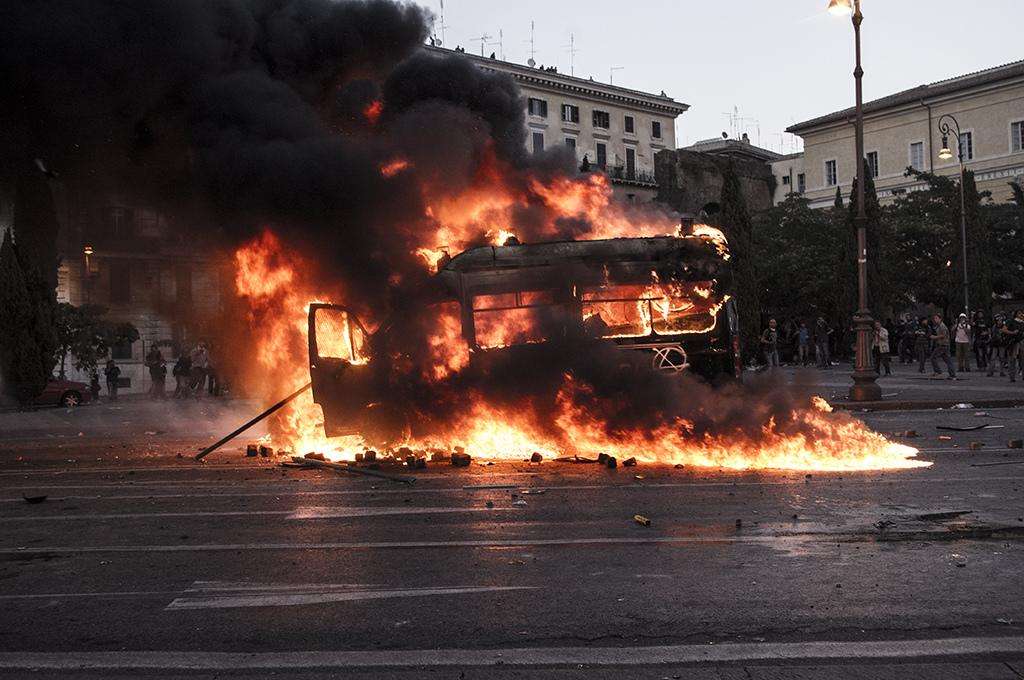fire: (702, 440, 903, 473), (425, 200, 513, 248), (233, 238, 292, 302), (463, 425, 538, 460), (538, 180, 620, 210), (290, 412, 332, 457)
